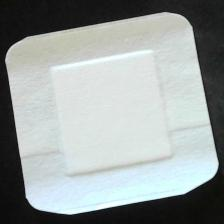Dressing: (4, 10, 220, 218)
